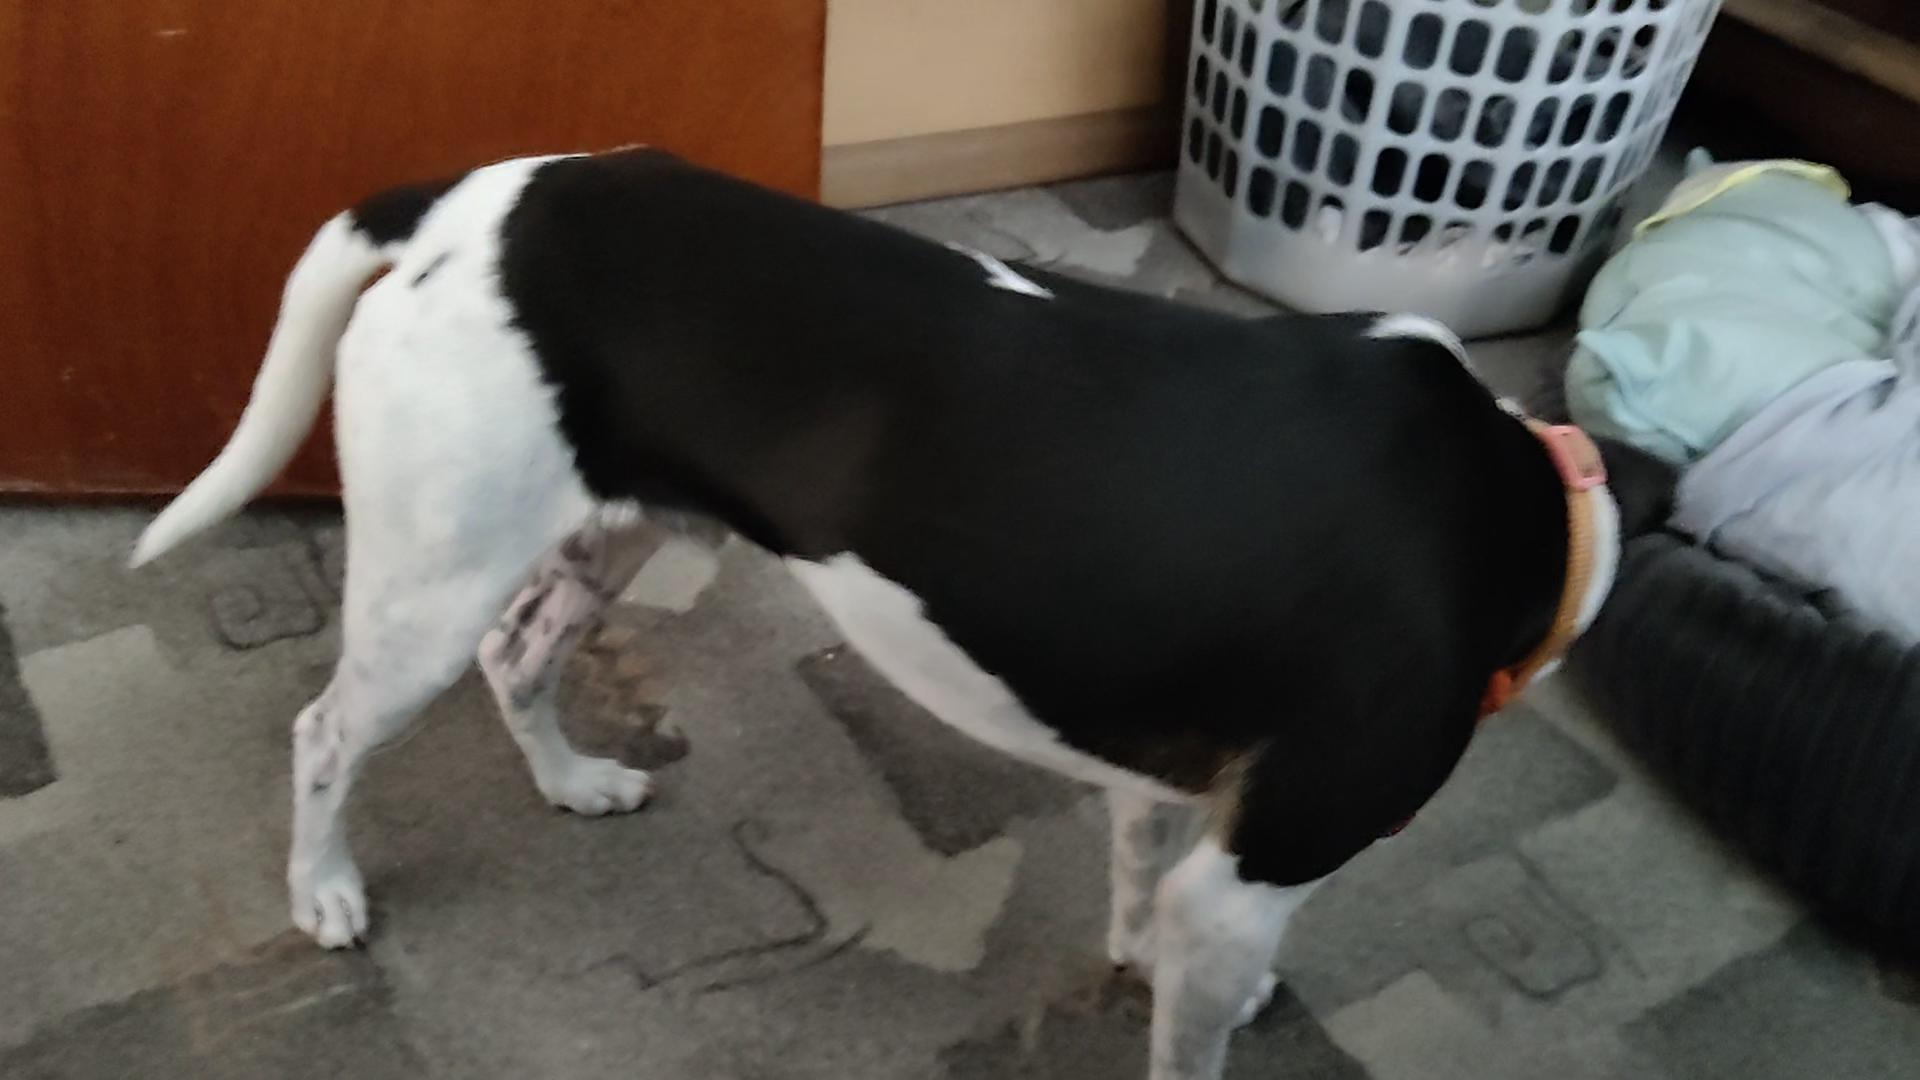Dog: (113, 140, 1701, 1079)
